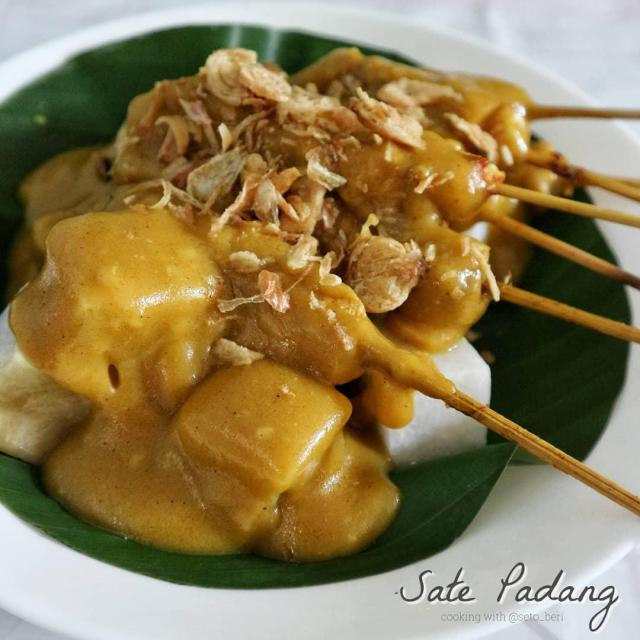Sate: (3, 2, 640, 580)
